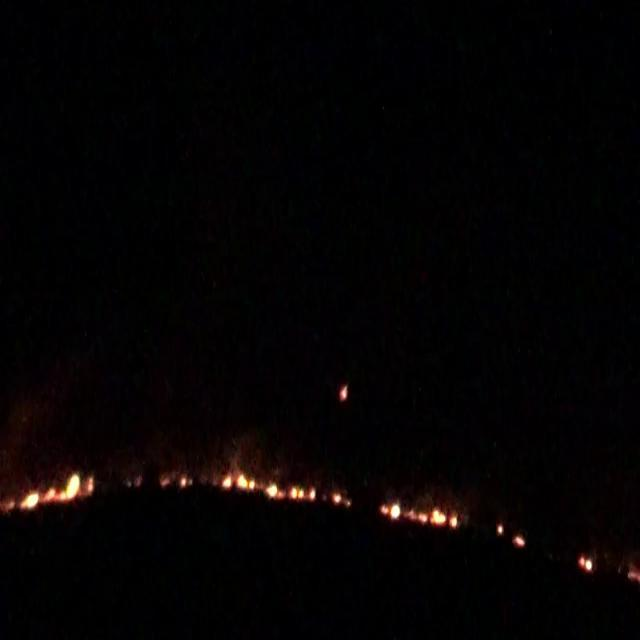Fire: (224, 472, 350, 508), (5, 463, 94, 513), (379, 501, 460, 529), (162, 475, 190, 489), (338, 383, 349, 402), (580, 554, 590, 572), (515, 537, 524, 547)
